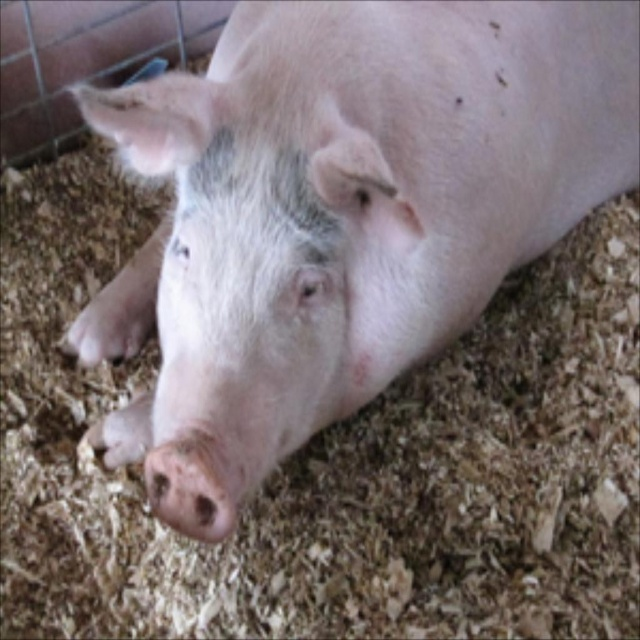Pig: (60, 0, 638, 546)
